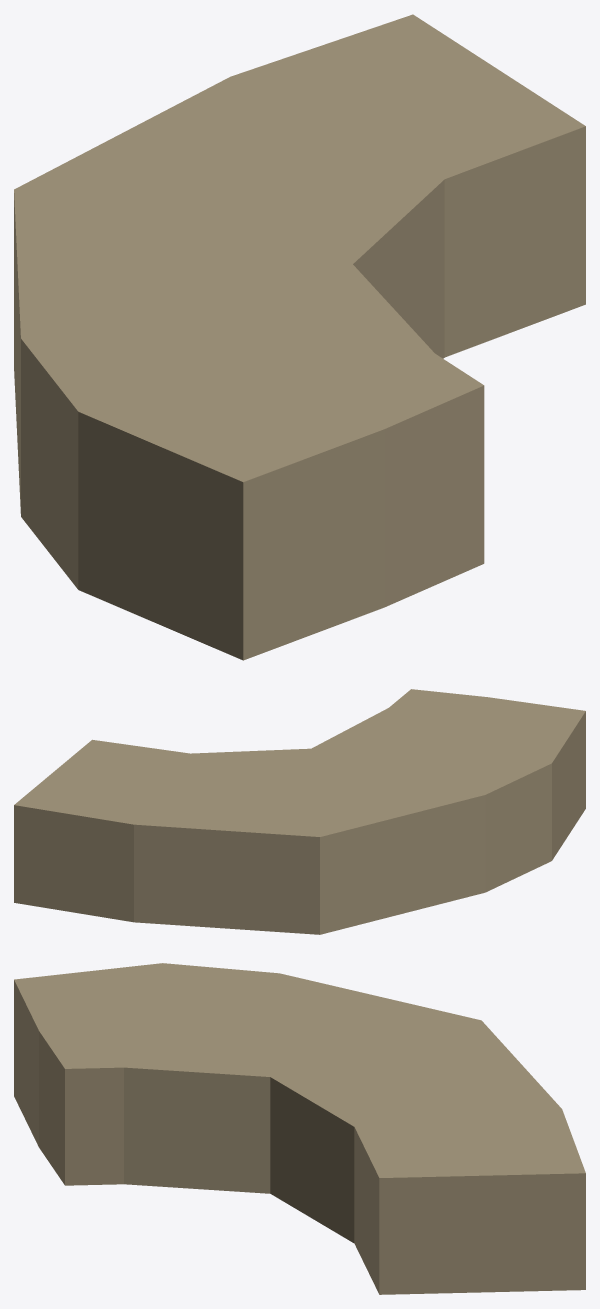
File: watervolume.obj
The picture shows the model from 3 angles, top to bottom: view 1: azimuth 30°, elevation 25°; view 2: azimuth 150°, elevation 25°; view 3: azimuth 270°, elevation 25°; orthographic projection. The views are drawn at different scales.
Visible parts, largest first — view 1: watervolume; view 2: watervolume; view 3: watervolume.
Boxes of the visible parts, <box> form: watervolume: <box>14,14,585,660</box>; watervolume: <box>14,689,585,934</box>; watervolume: <box>14,963,585,1294</box>.
Bounding box in the file's own units: 18.49 × 4.68 × 20.79.
